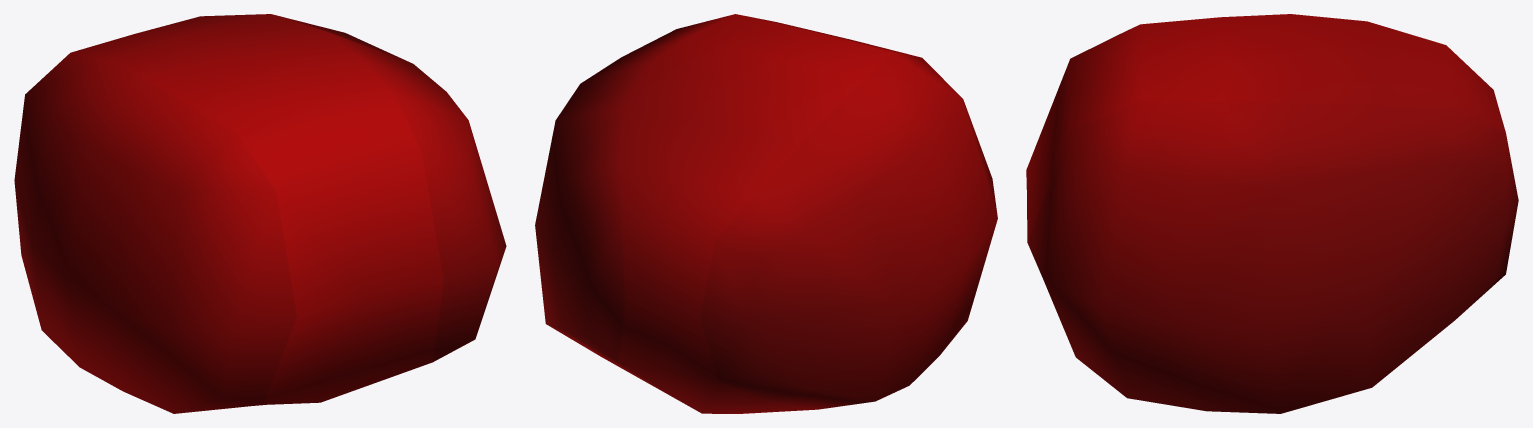
Rendered from geology-pebbles-sandstonepebble_v7.fbx.
The picture shows the model from 3 angles, left to right: view 1: azimuth 30°, elevation 25°; view 2: azimuth 150°, elevation 25°; view 3: azimuth 270°, elevation 25°; orthographic projection.
Visible parts, largest first — view 1: SandstonePebble_v7; view 2: SandstonePebble_v7; view 3: SandstonePebble_v7.
Part boxes in pixels (x1=…): SandstonePebble_v7: x1=14, y1=14, x2=506, y2=413; SandstonePebble_v7: x1=535, y1=14, x2=997, y2=413; SandstonePebble_v7: x1=1026, y1=14, x2=1518, y2=413.
Size of the model in its own units: 10.09 by 7.77 by 11.22.
